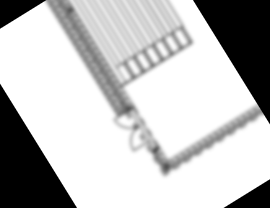double door: (114, 108, 153, 152)
wall: (47, 0, 134, 116), (160, 106, 263, 174), (150, 146, 173, 174)
